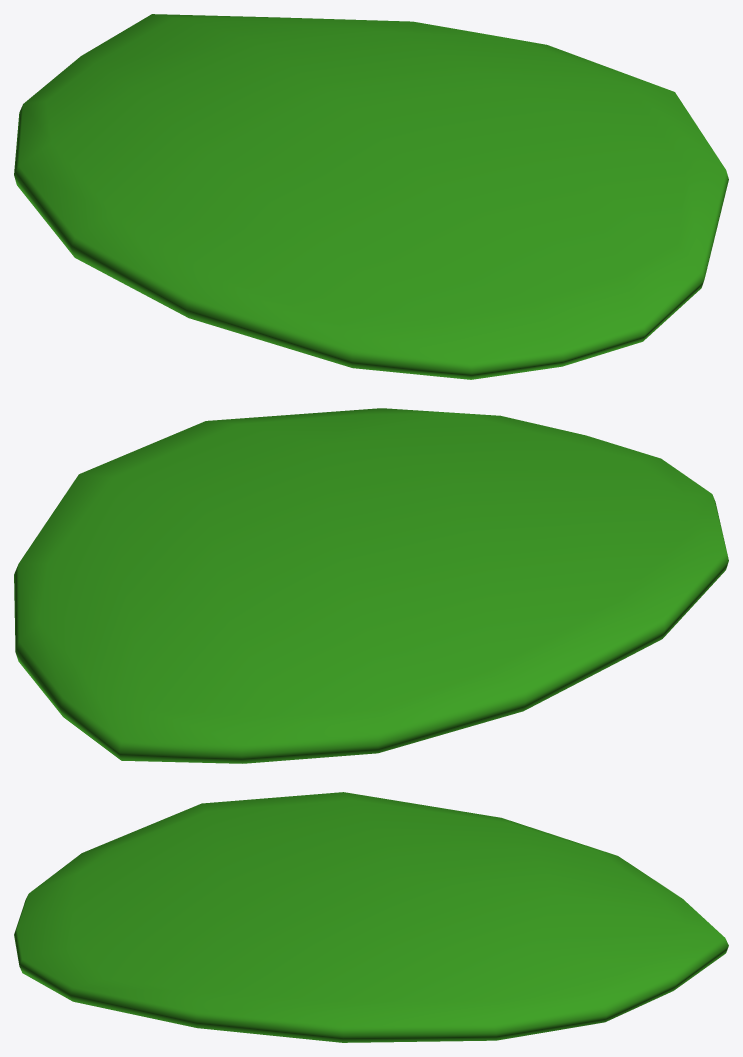
The model's file is MovingLeafLow.fbx.
The picture shows the model from 3 angles, top to bottom: view 1: azimuth 30°, elevation 25°; view 2: azimuth 150°, elevation 25°; view 3: azimuth 270°, elevation 25°; orthographic projection. The views are drawn at different scales.
Visible parts, largest first — view 1: MovingLeaf3; view 2: MovingLeaf3; view 3: MovingLeaf3.
Part boxes in pixels (x1,y1,x2,y2): MovingLeaf3: (14, 14, 728, 379); MovingLeaf3: (14, 408, 728, 763); MovingLeaf3: (14, 792, 728, 1042).
Bounding box in the file's own units: 4.06 × 0.5665 × 5.2.
